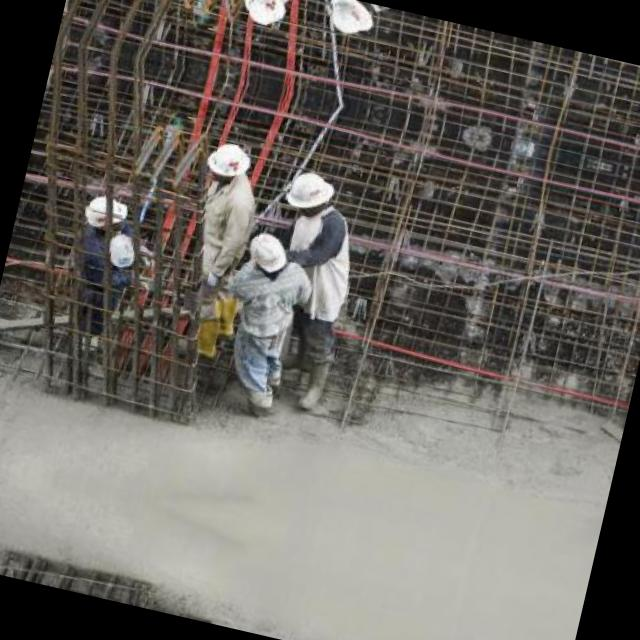helmet: (278, 163, 338, 220), (78, 186, 132, 238), (240, 227, 293, 277), (318, 0, 378, 42), (205, 136, 250, 183), (240, 0, 285, 30)
